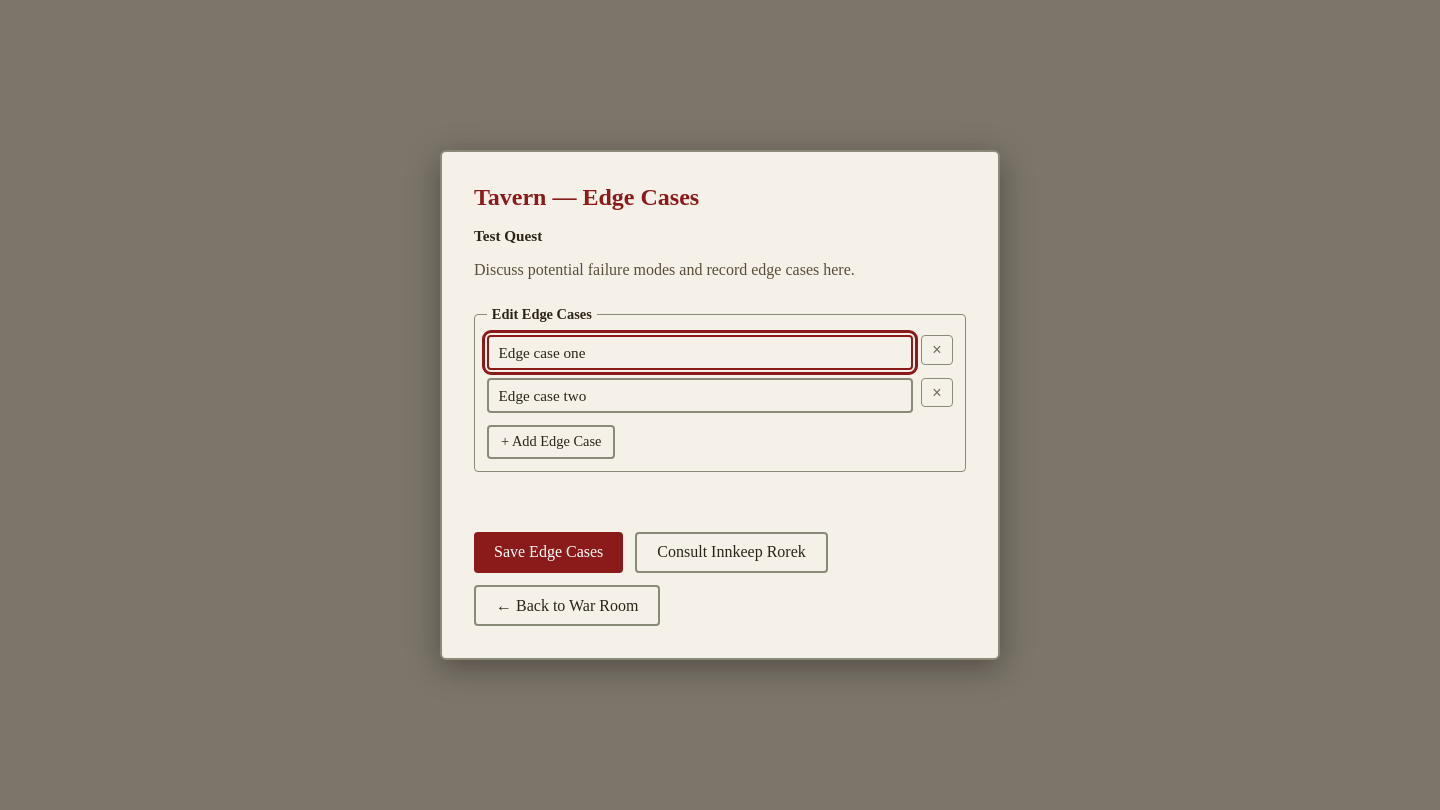
Test: Tavern › shows success message after save
Expected: the field named "edge case 1" is shown, 487,335 -> 913,370
Click the button "Save Edge Cases": coordinates (549, 552) 474,532 -> 623,573
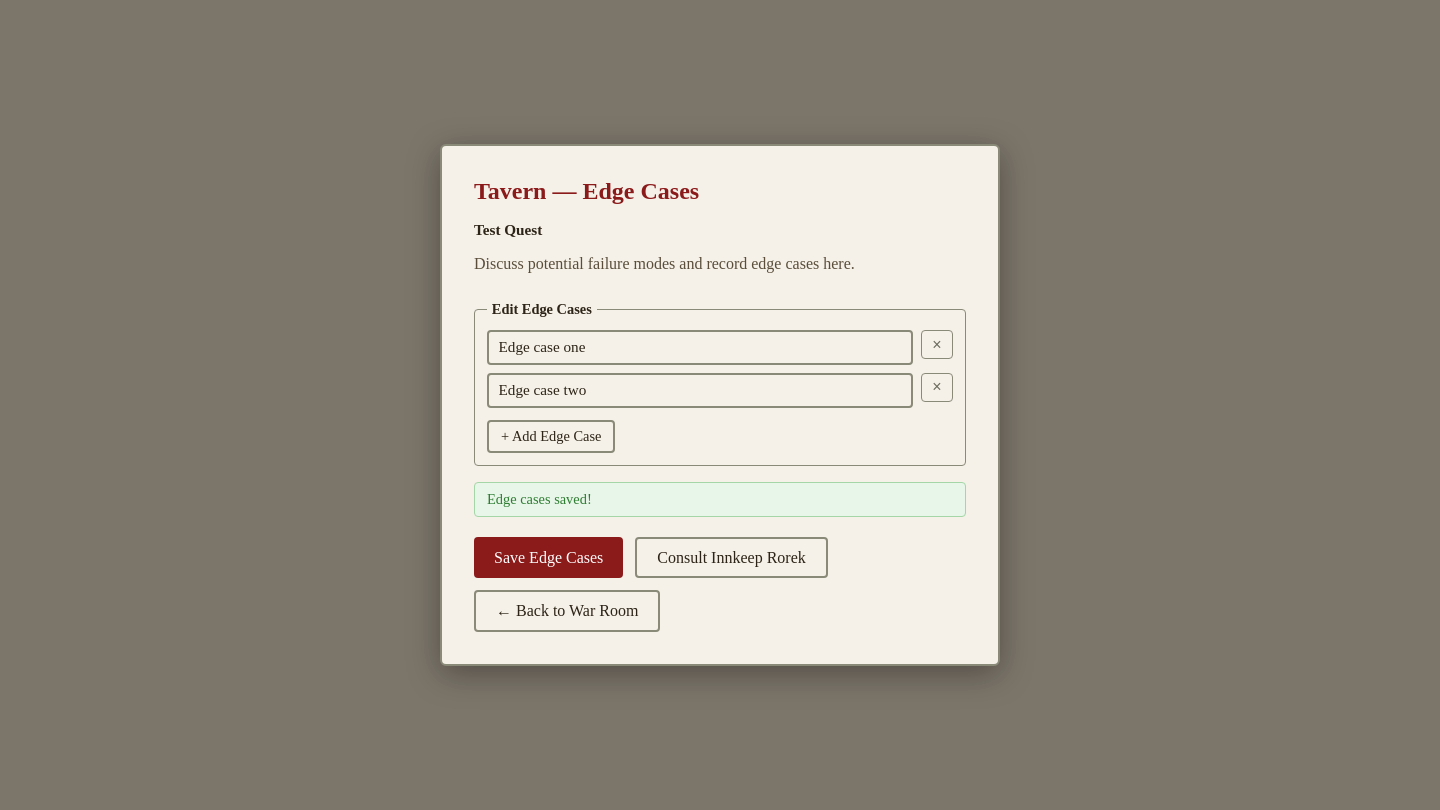
Expected: the text "Edge cases saved!" is shown, 474,482 -> 966,517
